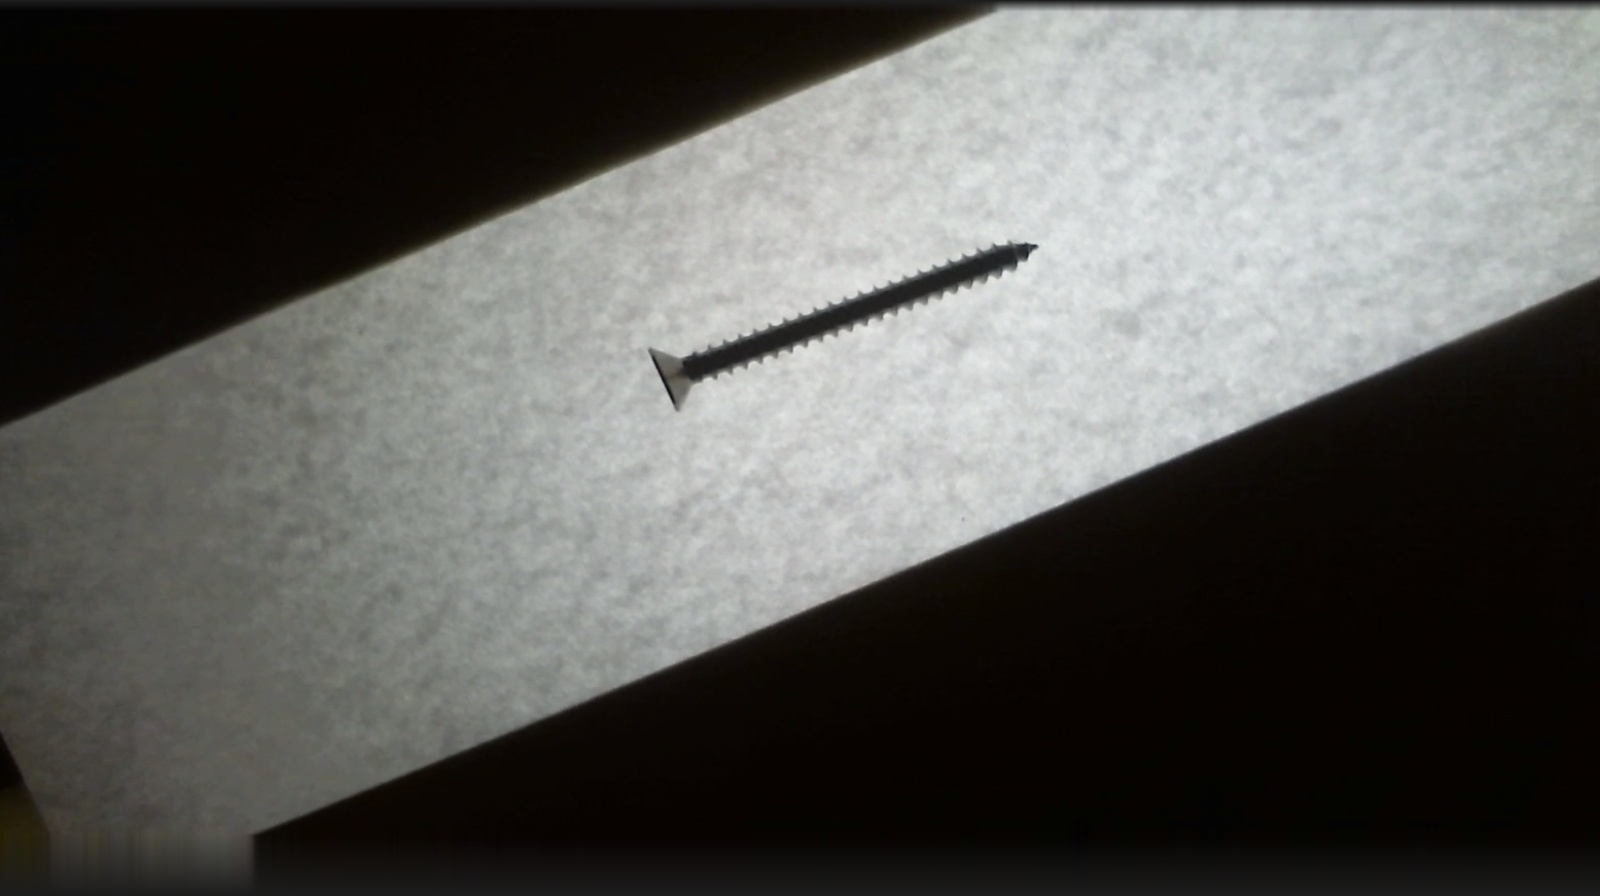S002: (637, 230, 1043, 413)
